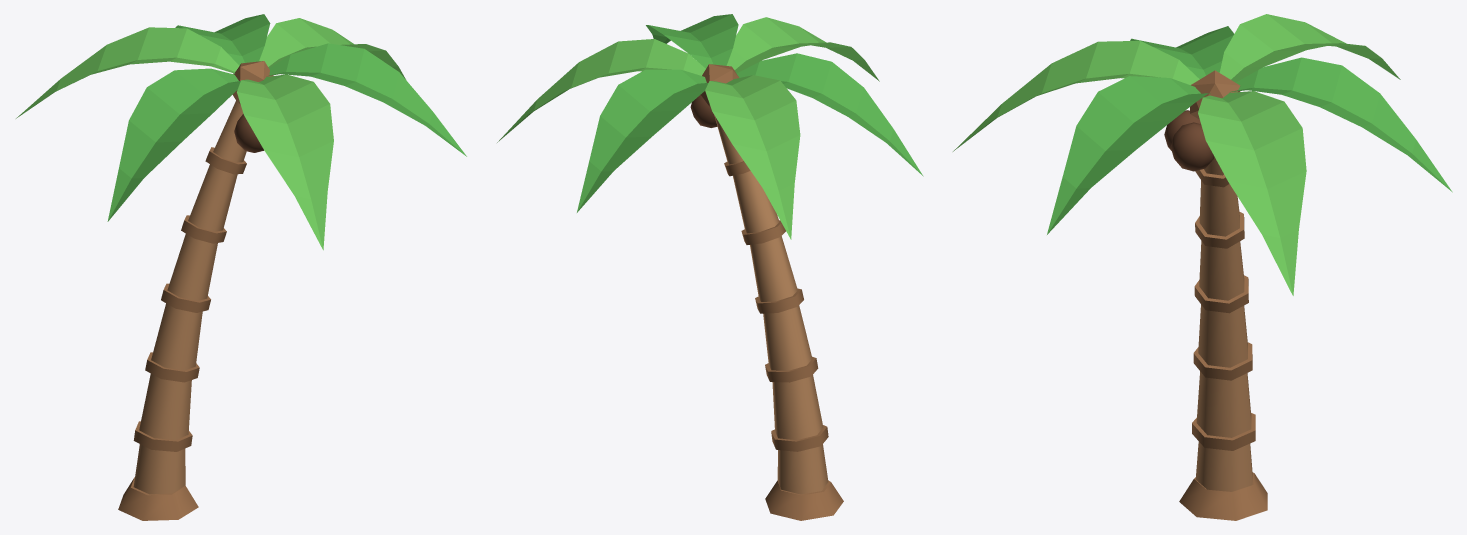
Rendered from palm_tree.glb.
3 renders of one model, left to right at view 1: azimuth 30°, elevation 25°; view 2: azimuth 150°, elevation 25°; view 3: azimuth 270°, elevation 25°, orthographic. The views are drawn at different scales.
Parts seen in each view (by area): view 1: leaf_5, leaf_4, leaf_6, leaf_3, trunk_segment_2, leaf_1, trunk_segment_3, trunk_segment_4, trunk_segment_1, leaf_2, trunk_segment_5, trunk_flare (+8 smaller); view 2: leaf_3, leaf_2, leaf_4, leaf_1, leaf_5, leaf_6, trunk_segment_2, trunk_segment_3, trunk_segment_4, trunk_segment_1, trunk_flare, trunk_segment_5 (+6 smaller); view 3: leaf_1, leaf_6, leaf_2, leaf_5, leaf_3, trunk_segment_2, trunk_segment_3, trunk_flare, trunk_segment_1, trunk_segment_4, leaf_4, trunk_segment_5 (+6 smaller).
Boxes of the visible parts, x1,y1,x2,y2 form: leaf_5: [237, 74, 333, 250]; leaf_4: [107, 68, 240, 221]; leaf_6: [266, 43, 466, 156]; leaf_3: [16, 27, 239, 118]; trunk_segment_2: [139, 373, 191, 439]; leaf_1: [259, 18, 405, 79]; trunk_segment_3: [151, 303, 202, 370]; trunk_segment_4: [167, 234, 217, 300]; trunk_segment_1: [133, 444, 185, 494]; leaf_2: [175, 14, 270, 65]; trunk_segment_5: [188, 164, 237, 231]; trunk_flare: [118, 477, 198, 520]; leaf_3: [705, 75, 800, 239]; leaf_2: [577, 69, 708, 212]; leaf_4: [737, 53, 923, 176]; leaf_1: [497, 39, 705, 142]; leaf_5: [726, 17, 879, 81]; leaf_6: [646, 14, 738, 68]; trunk_segment_2: [772, 375, 823, 439]; trunk_segment_3: [763, 305, 812, 370]; trunk_segment_4: [750, 236, 797, 301]; trunk_segment_1: [777, 444, 828, 494]; trunk_flare: [765, 480, 843, 520]; trunk_segment_5: [733, 171, 779, 233]; leaf_1: [1198, 91, 1306, 295]; leaf_6: [1047, 76, 1210, 234]; leaf_2: [1229, 57, 1452, 192]; leaf_5: [953, 40, 1199, 151]; leaf_3: [1219, 14, 1400, 82]; trunk_segment_2: [1196, 371, 1251, 437]; trunk_segment_3: [1198, 304, 1247, 367]; trunk_flare: [1179, 472, 1267, 520]; trunk_segment_1: [1195, 441, 1252, 491]; trunk_segment_4: [1199, 241, 1244, 300]; leaf_4: [1130, 26, 1233, 78]; trunk_segment_5: [1199, 180, 1239, 236].
Bounding box in the file's own units: 2.27 × 2.55 × 2.36.
